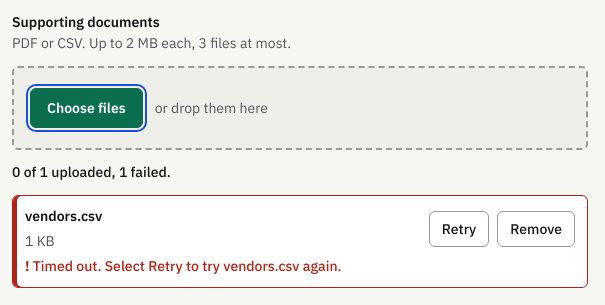
Test case: FileUpload › retries a failed file
Earlier steps of the test are not shown.
Click the button with aria-label "Retry vendors.csv" at (459, 229), box x1=429 y1=211 x2=489 y2=247
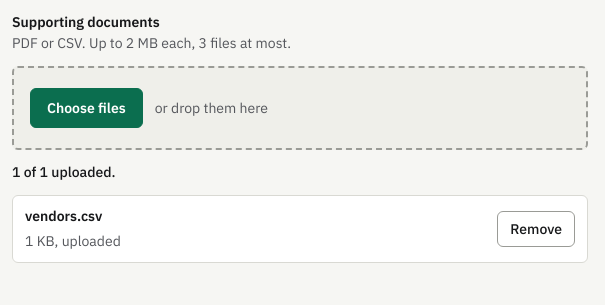
Check: the message reads "1 of 1 uploaded.", box x1=12 y1=163 x2=116 y2=181
